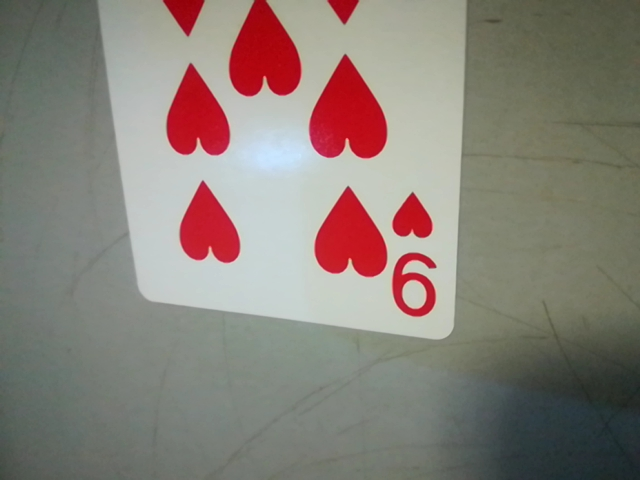hx 9: (383, 186, 451, 328)
